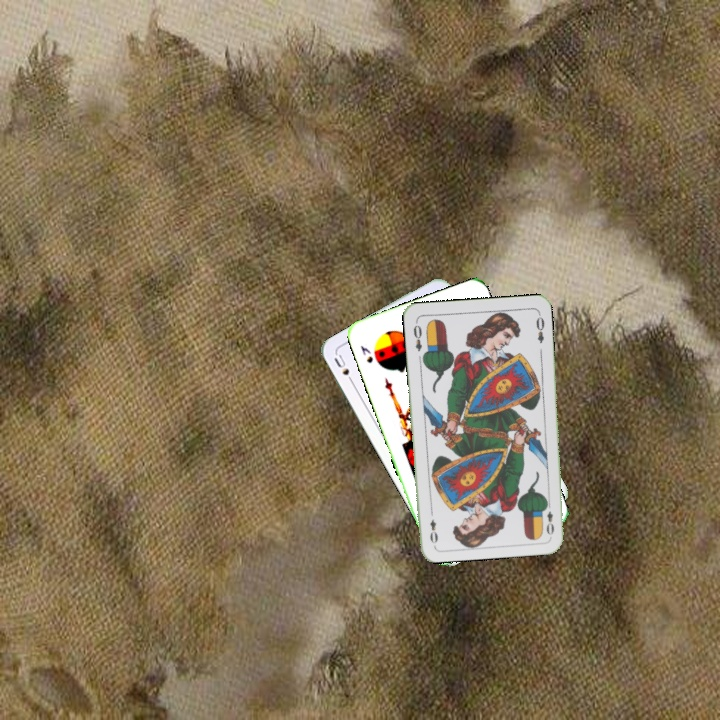EO: (541, 498, 556, 537), (409, 321, 425, 354)
SK: (356, 341, 376, 366)
SU: (330, 350, 357, 388)
